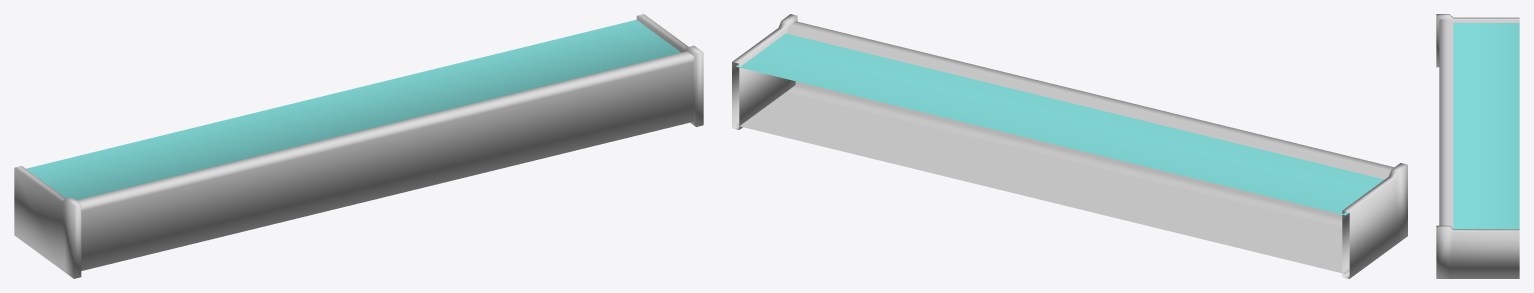
Rendered from HangLedge.fbx.
3 renders of one model, left to right at view 1: azimuth 30°, elevation 25°; view 2: azimuth 150°, elevation 25°; view 3: azimuth 270°, elevation 25°, orthographic. The views are drawn at different scales.
Parts seen in each view (by area): view 1: HangLedge; view 2: HangLedge; view 3: HangLedge.
Boxes of the visible parts, x1,y1,x2,y2 form: HangLedge: (14, 14, 703, 278); HangLedge: (732, 14, 1407, 278); HangLedge: (1436, 14, 1519, 278).
Bounding box in the file's own units: 2.53 × 0.28 × 0.415.
